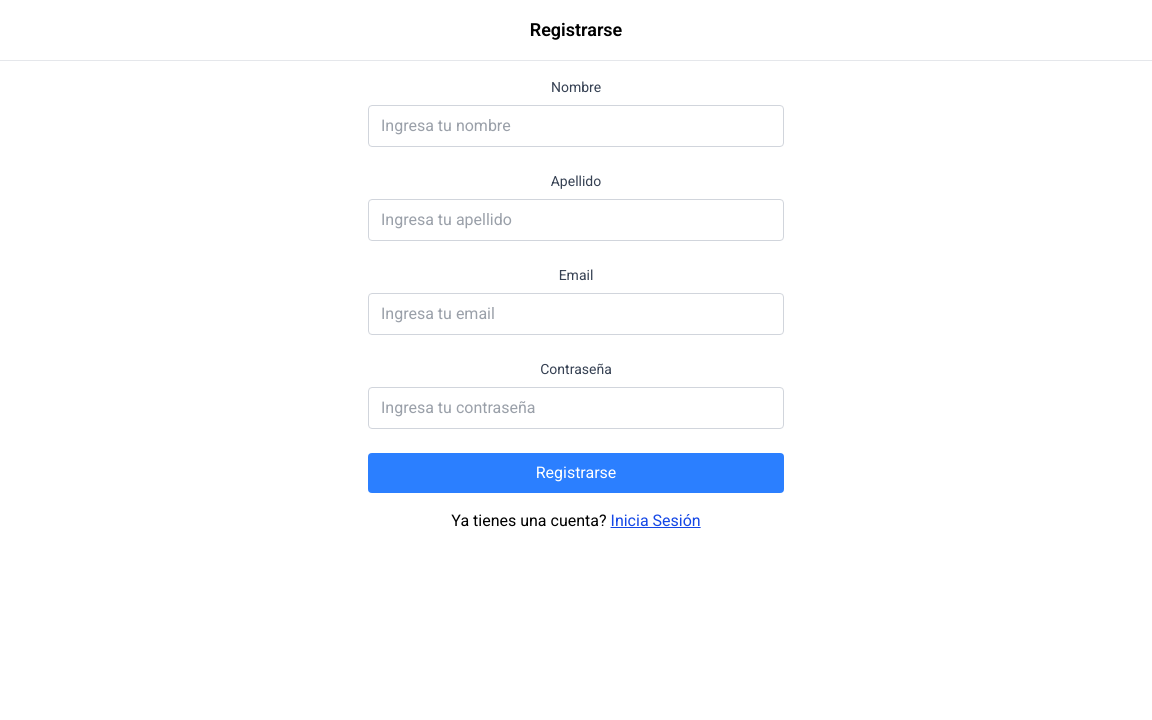
Scenario: SignUp Component › shows error if fields are empty
The image size is (1152, 720).
Click the button "Registrarse" at (576, 473), box [368,453,784,493]
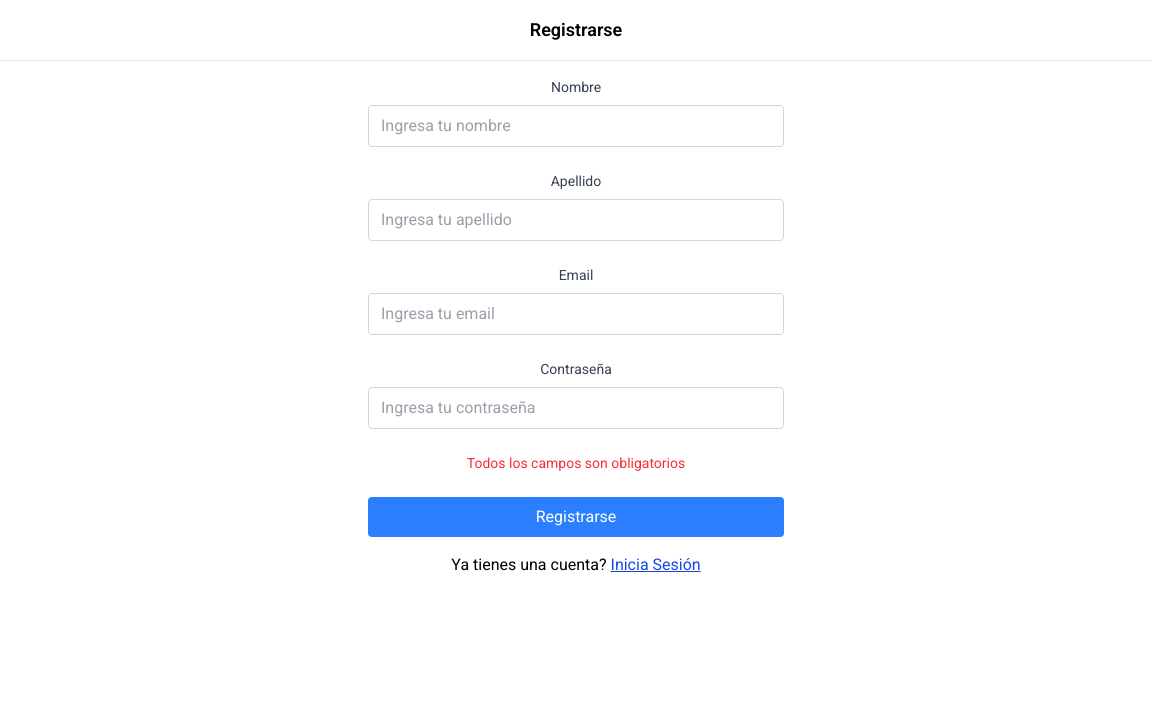
Expected: the text "Todos los campos son obligatorios" is shown, [467,455,685,471]
